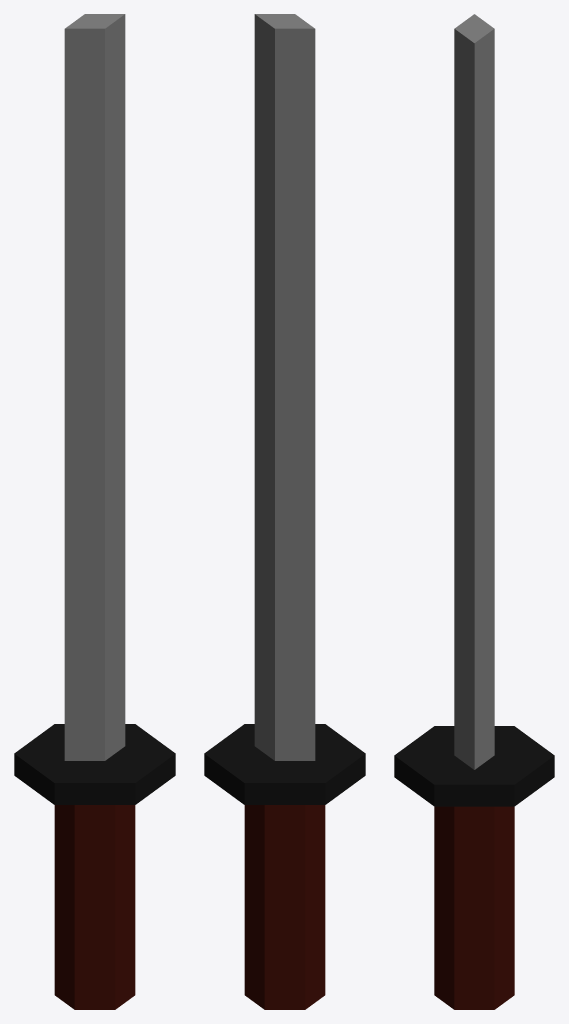
The model's file is Katana.obj.
The picture shows the model from 3 angles, left to right: view 1: azimuth 30°, elevation 25°; view 2: azimuth 150°, elevation 25°; view 3: azimuth 270°, elevation 25°; orthographic projection.
Size of the model in its own units: 0.1732 by 1.33 by 0.2.
